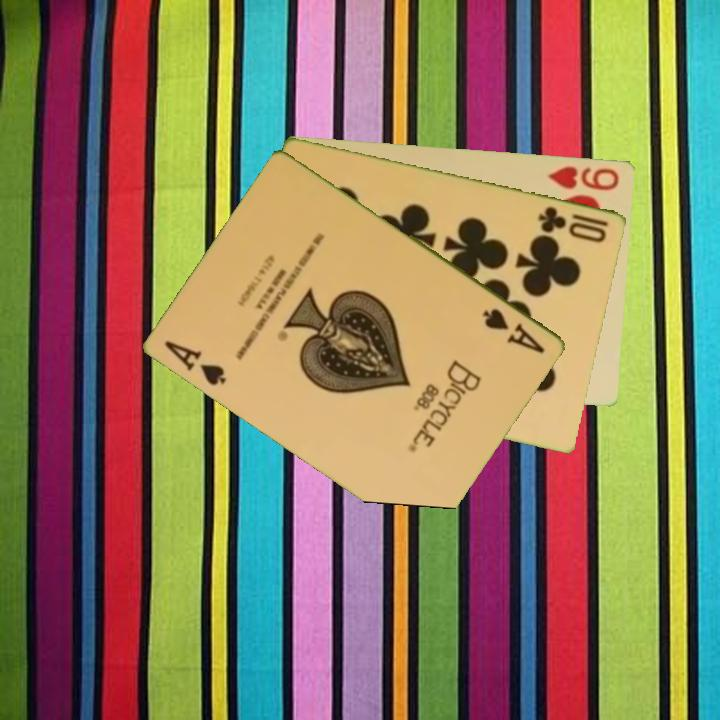10c: (535, 202, 612, 245)
9h: (546, 162, 622, 193)
As: (479, 304, 548, 357), (161, 336, 230, 389)
